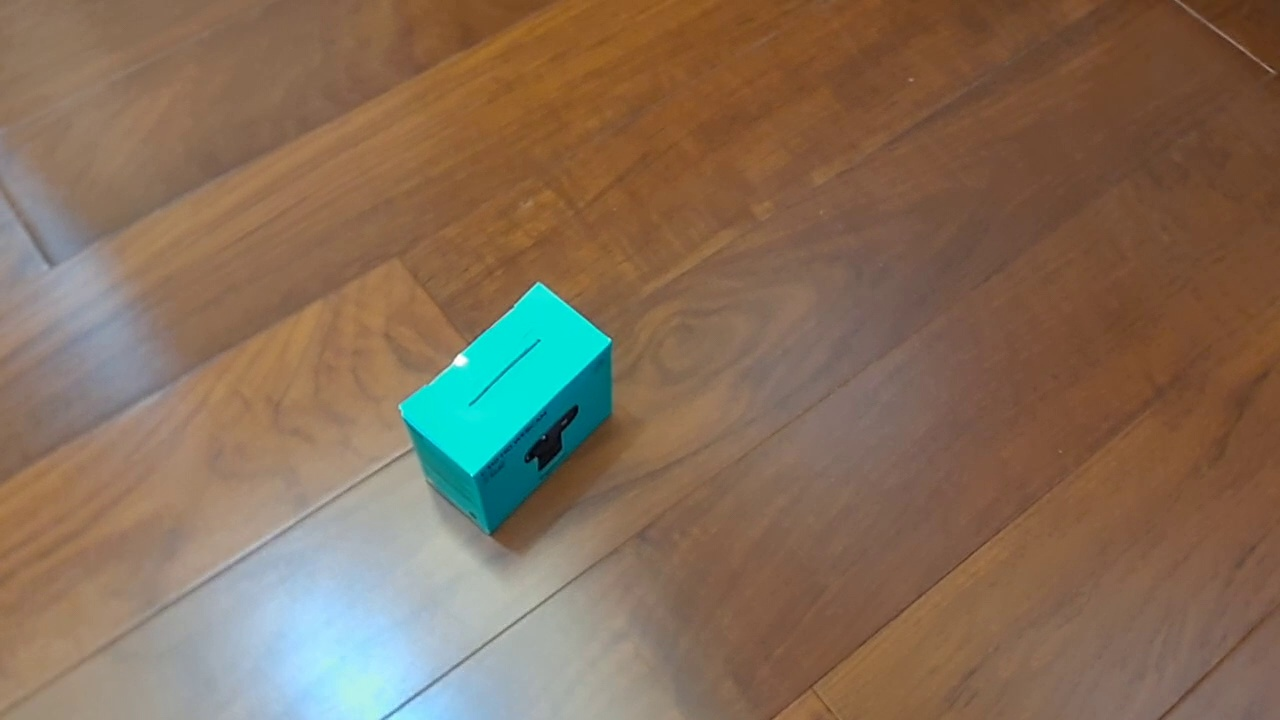webcam: (397, 280, 613, 537)
